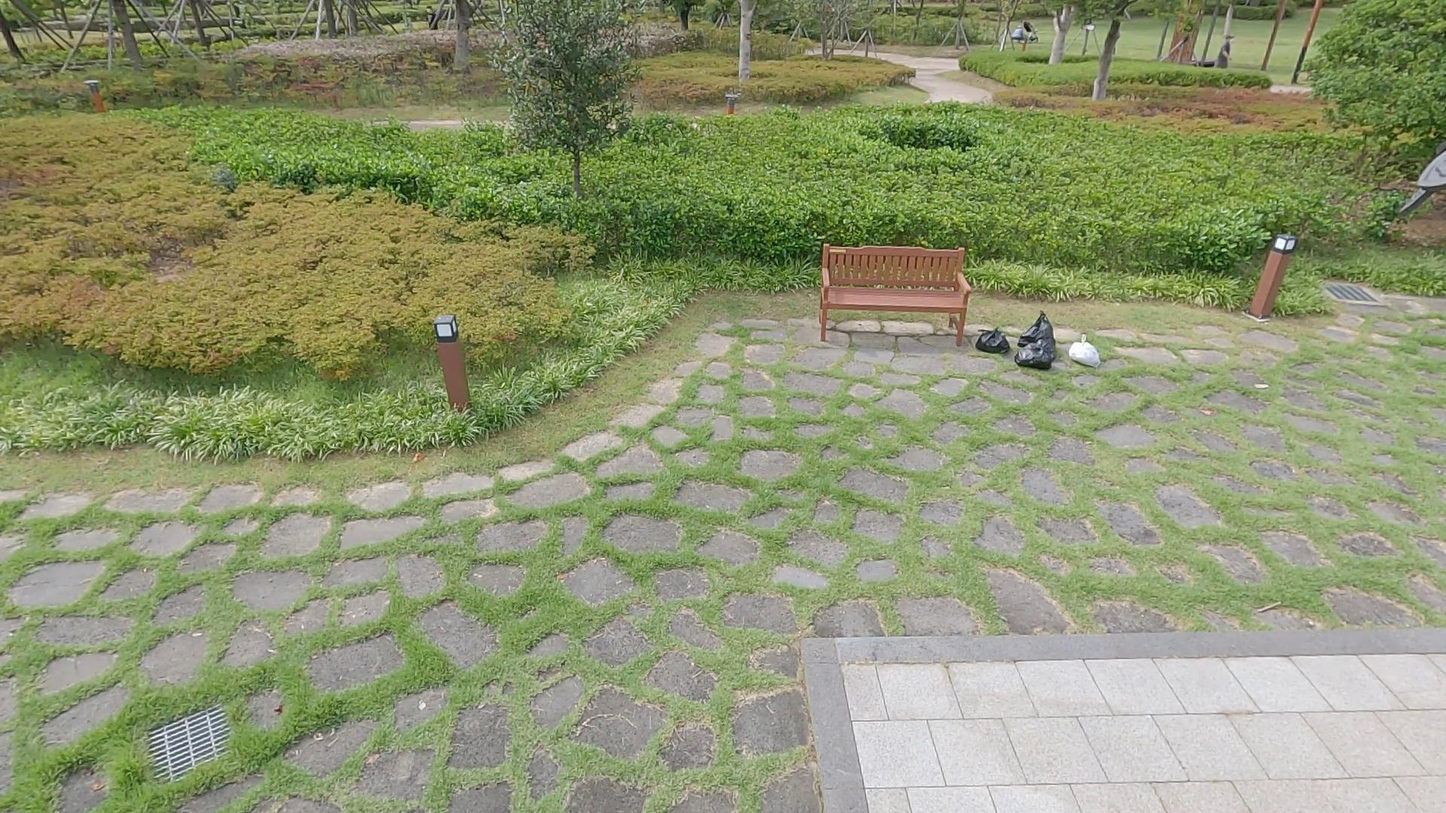trash: (1016, 339, 1056, 370), (1018, 311, 1056, 343), (1068, 333, 1102, 368), (976, 327, 1011, 354)
